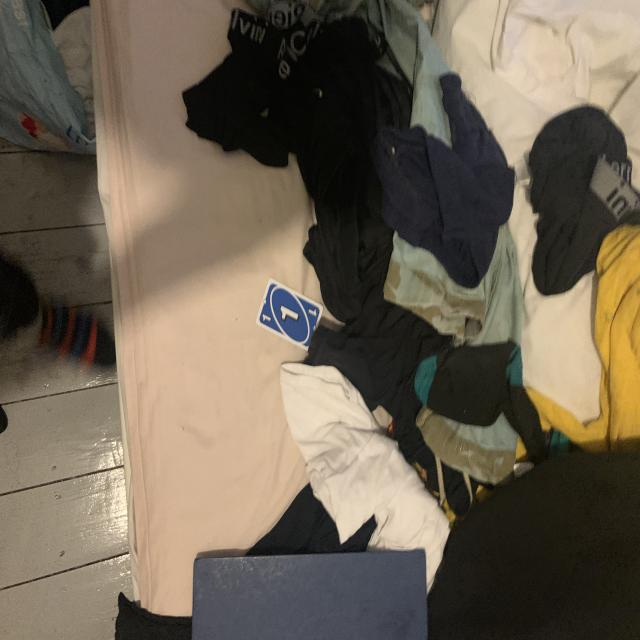lblue-1: (261, 312, 272, 326)
